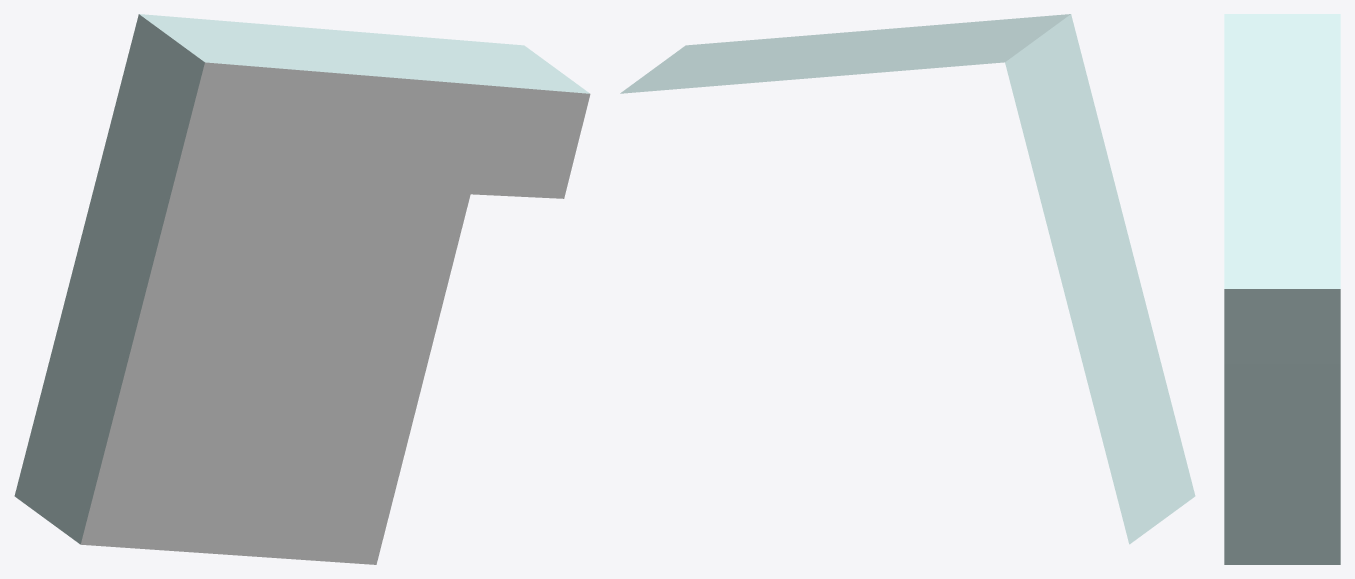
3 renders of one model, left to right at view 1: azimuth 30°, elevation 25°; view 2: azimuth 150°, elevation 25°; view 3: azimuth 270°, elevation 25°, orthographic. The views are drawn at different scales.
Visible parts, largest first — view 1: 0_2_2_1_3_0_3_0_0; view 2: 0_2_2_1_3_0_3_0_0; view 3: 0_2_2_1_3_0_3_0_0.
Part boxes in pixels (box(x1,y1,x2,y2)): 0_2_2_1_3_0_3_0_0: box(14, 14, 590, 564); 0_2_2_1_3_0_3_0_0: box(620, 14, 1195, 544); 0_2_2_1_3_0_3_0_0: box(1224, 14, 1340, 564).
Size of the model in its own units: 13.34 by 13.61 by 3.
